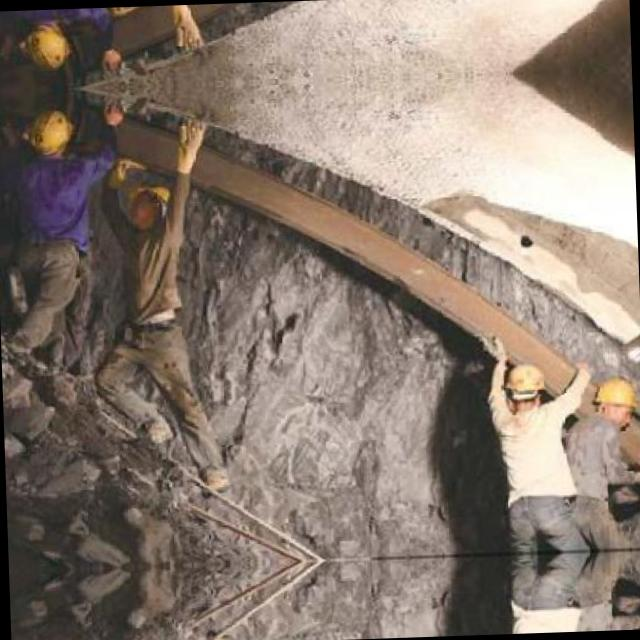helmet: (22, 104, 73, 160), (19, 19, 70, 74), (595, 374, 640, 436), (124, 179, 172, 230), (506, 359, 545, 412)
